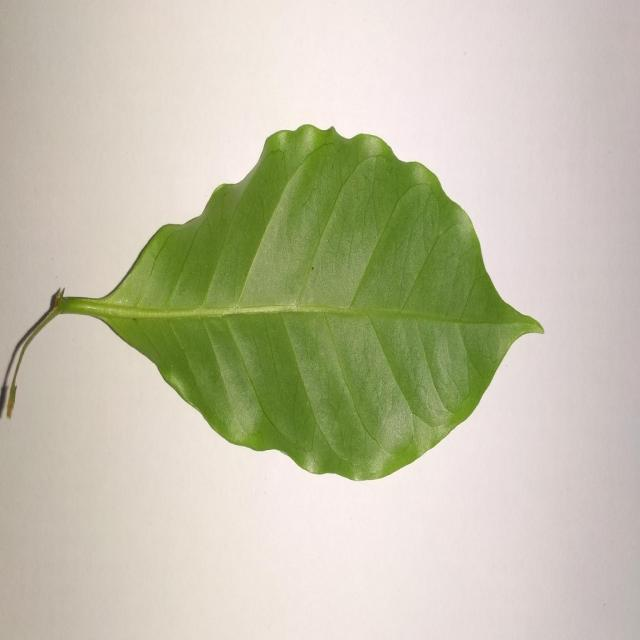Sanas: (0, 124, 545, 484)
